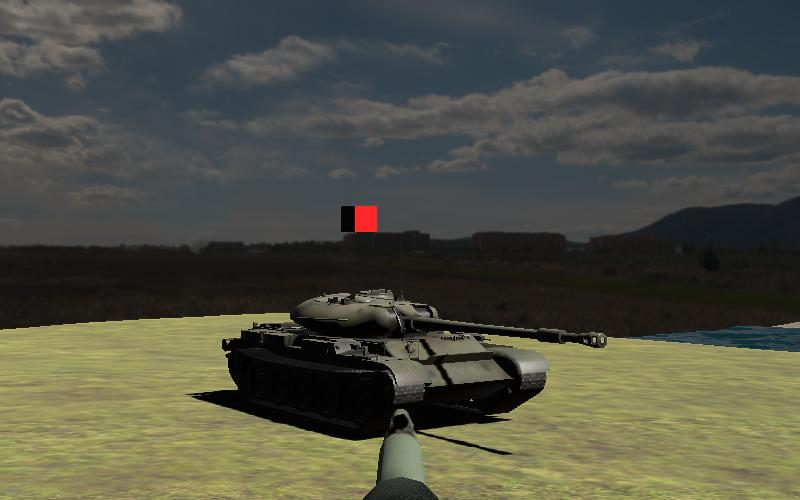Tank: (218, 278, 610, 441)
